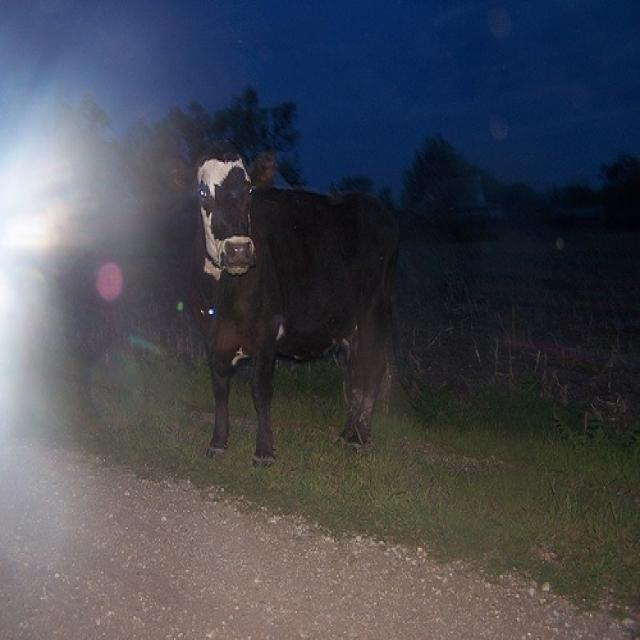cow: (191, 148, 411, 460)
